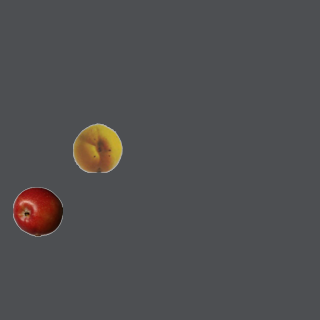Apple Braeburn: (12, 186, 62, 236)
Peach 2: (72, 122, 122, 172)
